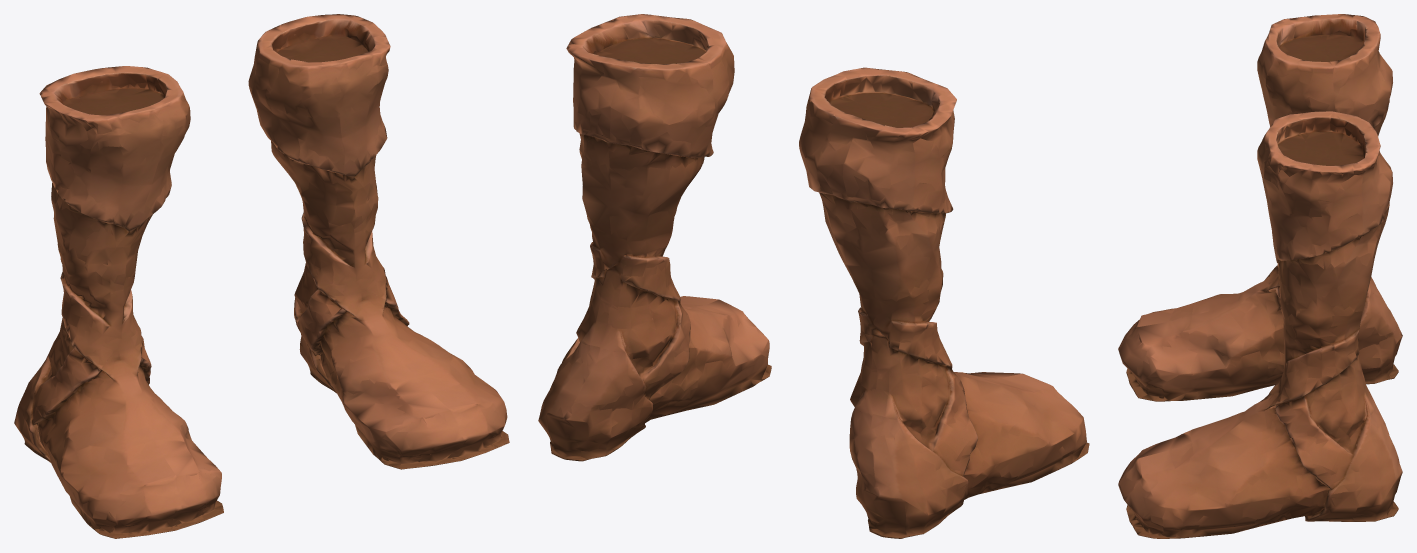
Rendered from high-shoes.glb.
3 renders of one model, left to right at view 1: azimuth 30°, elevation 25°; view 2: azimuth 150°, elevation 25°; view 3: azimuth 270°, elevation 25°, orthographic. The views are drawn at different scales.
Visible parts, largest first — view 1: Module_high-shoes_right, Module_high-shoes_left_0; view 2: Module_high-shoes_right, Module_high-shoes_left_0; view 3: Module_high-shoes_left_0, Module_high-shoes_right.
Boxes of the visible parts, x1,y1,x2,y2 form: Module_high-shoes_right: [14, 66, 223, 538]; Module_high-shoes_left_0: [248, 14, 509, 469]; Module_high-shoes_right: [799, 67, 1089, 538]; Module_high-shoes_left_0: [538, 14, 771, 461]; Module_high-shoes_left_0: [1118, 111, 1402, 538]; Module_high-shoes_right: [1118, 14, 1402, 401].
Size of the model in its own units: 0.6067 by 0.4962 by 0.3628.
Materials: 1 (1 with a texture image).
